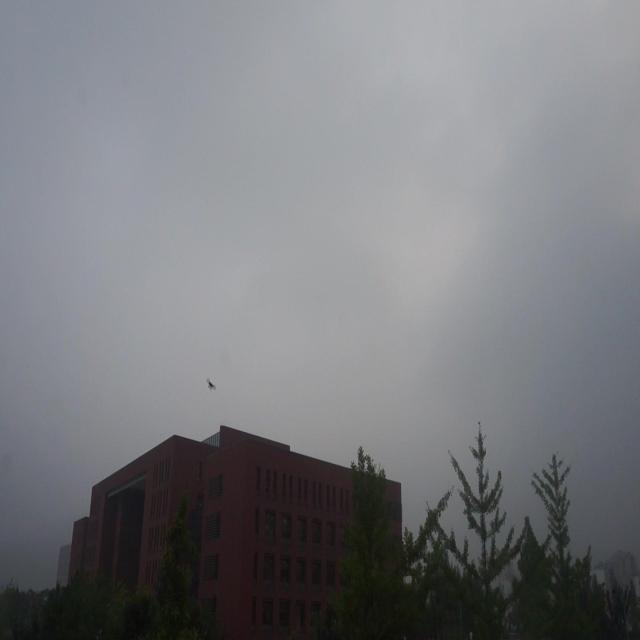drone: (205, 374, 219, 395)
